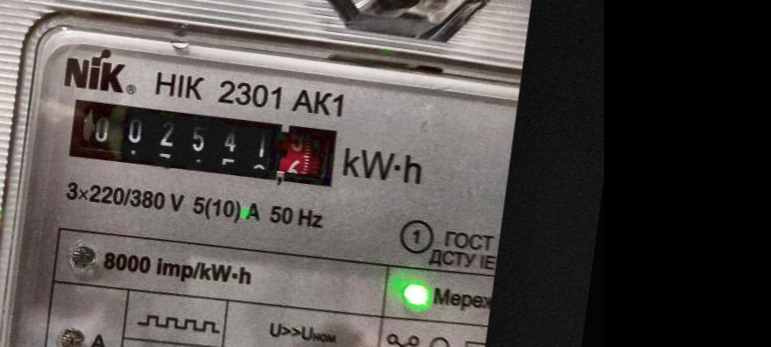0: (122, 110, 145, 146), (91, 112, 112, 143)
1: (249, 125, 270, 159)
2: (153, 114, 178, 150)
4: (219, 121, 240, 154)
5: (186, 120, 207, 154)
6: (282, 153, 301, 176)
screen: (50, 79, 359, 208)
